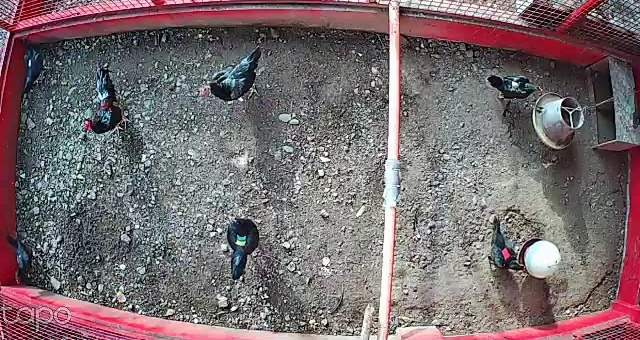Chicken: (208, 41, 277, 107), (223, 213, 267, 283), (477, 211, 526, 273), (19, 27, 57, 96), (486, 69, 546, 104), (6, 232, 38, 288)
Rooster: (74, 61, 137, 140)
Saddle_Color_Red: (501, 246, 512, 262)
Saddle_Color_White: (28, 59, 31, 67)
Saddle_Color_YellowGreen: (232, 233, 249, 246)
